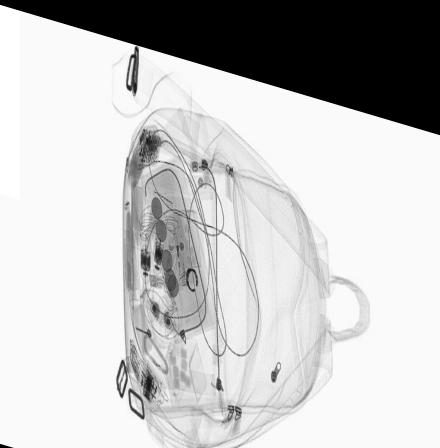Lighter: (175, 223, 189, 279)
